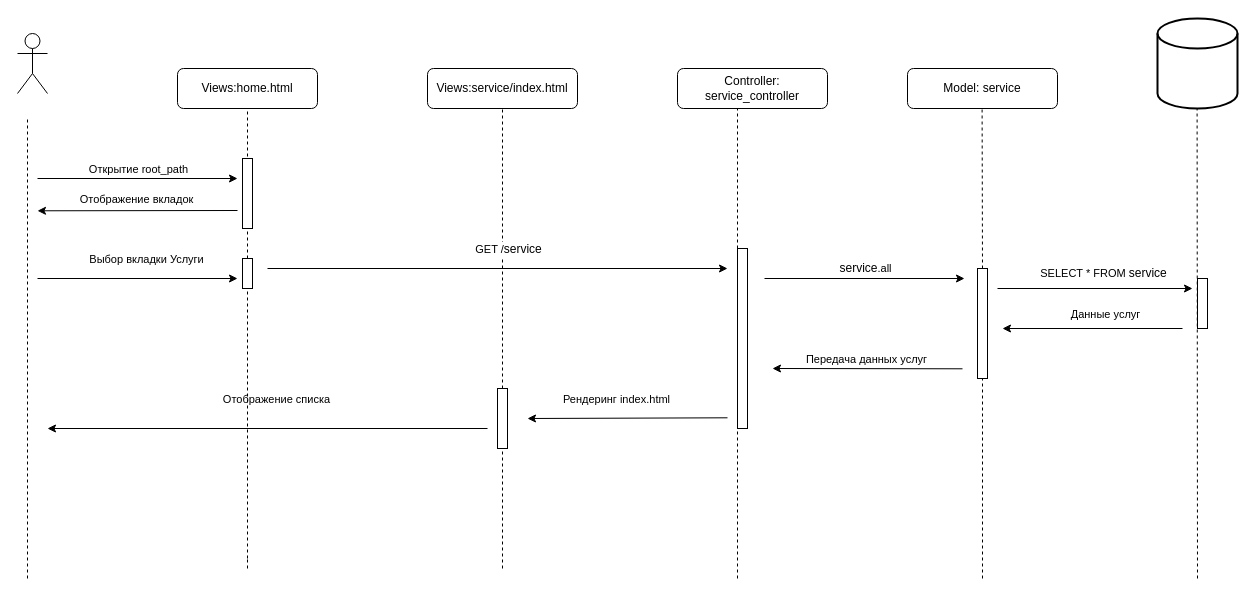
The diagram is 1256 pixels wide and 597 high, and some of its shapes have lost their labels. Here are the shapes that lost their labels. From the top down, the box of each, then its label:
(16, 32, 48, 94): User
(1156, 17, 1238, 109): DB
